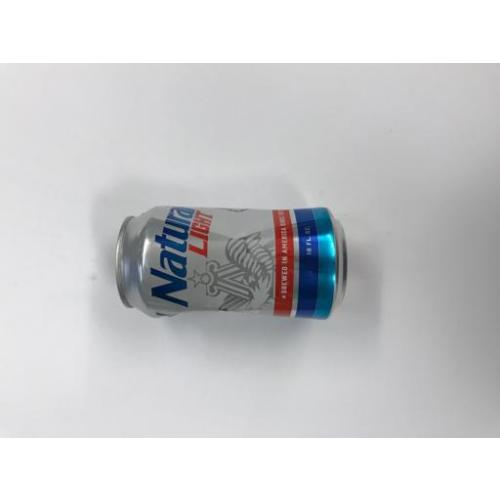metal: (120, 207, 344, 319)
